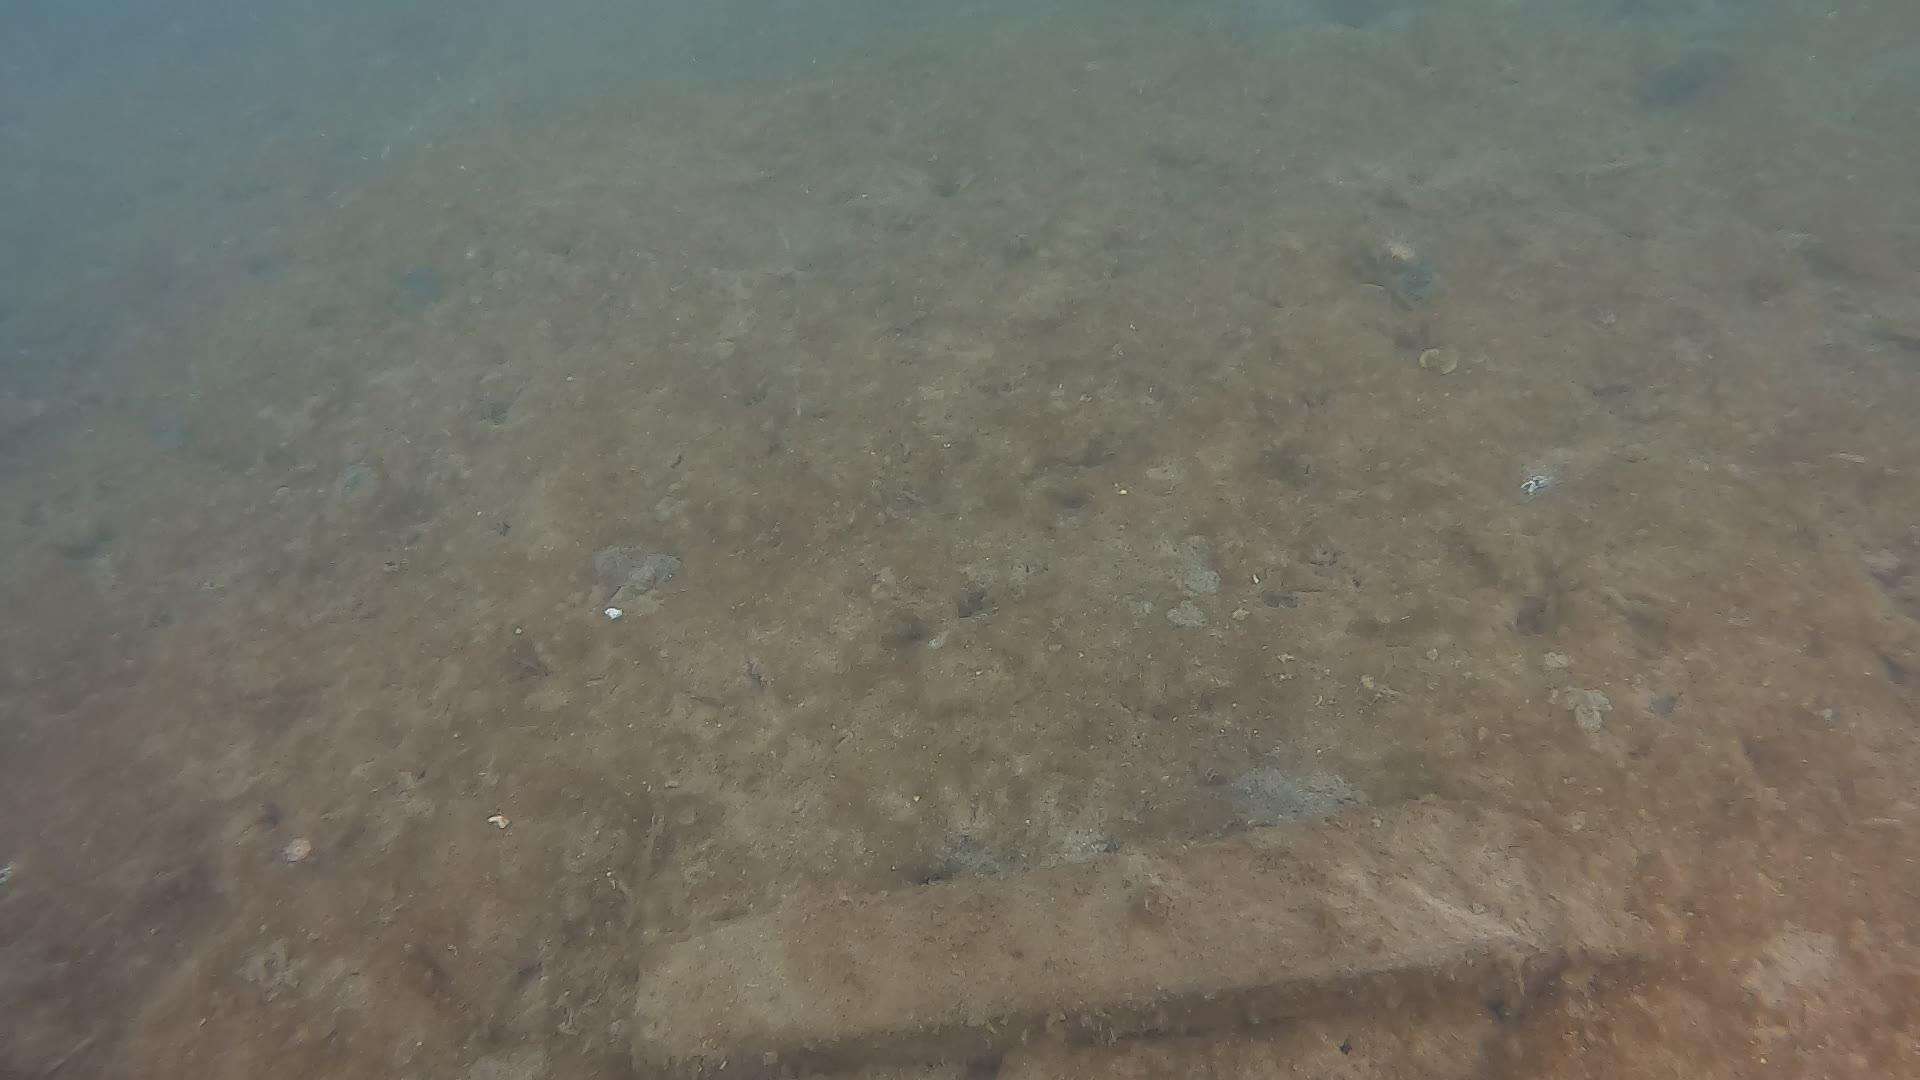wood: (618, 803, 1706, 1064)
